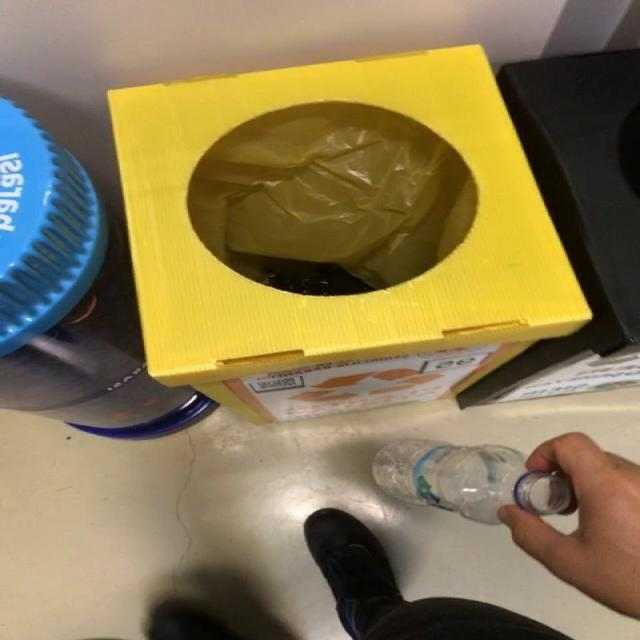Plastic: (372, 439, 573, 524)
